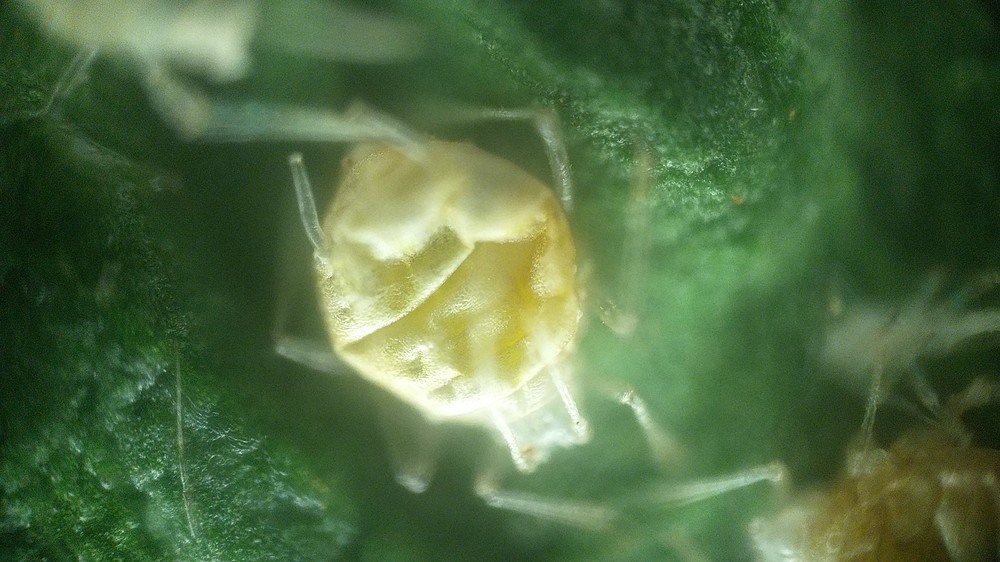Pulgon: (273, 116, 708, 539)
